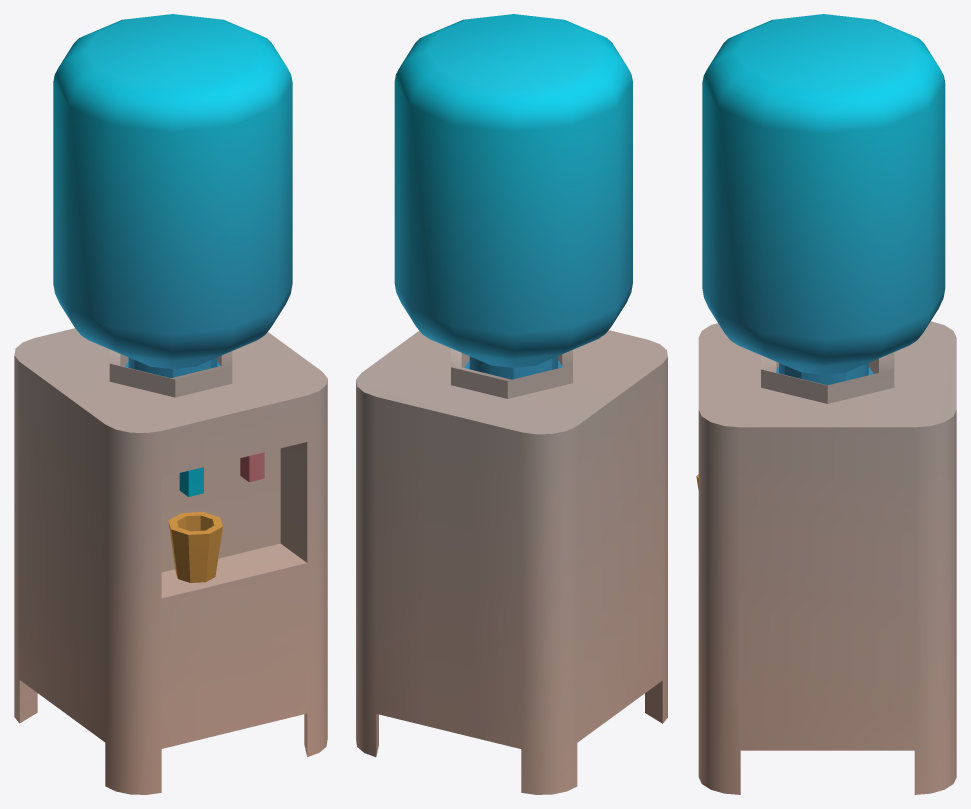
File: WaterCooler.fbx
The picture shows the model from 3 angles, left to right: view 1: azimuth 30°, elevation 25°; view 2: azimuth 150°, elevation 25°; view 3: azimuth 270°, elevation 25°; orthographic projection.
Visible parts, largest first — view 1: WaterCooler; view 2: WaterCooler; view 3: WaterCooler.
Part boxes in pixels (x1,y1,x2,y2): WaterCooler: [14, 14, 327, 794]; WaterCooler: [356, 14, 667, 794]; WaterCooler: [696, 14, 956, 794].
Size of the model in its own units: 22.87 by 68.44 by 23.4.
